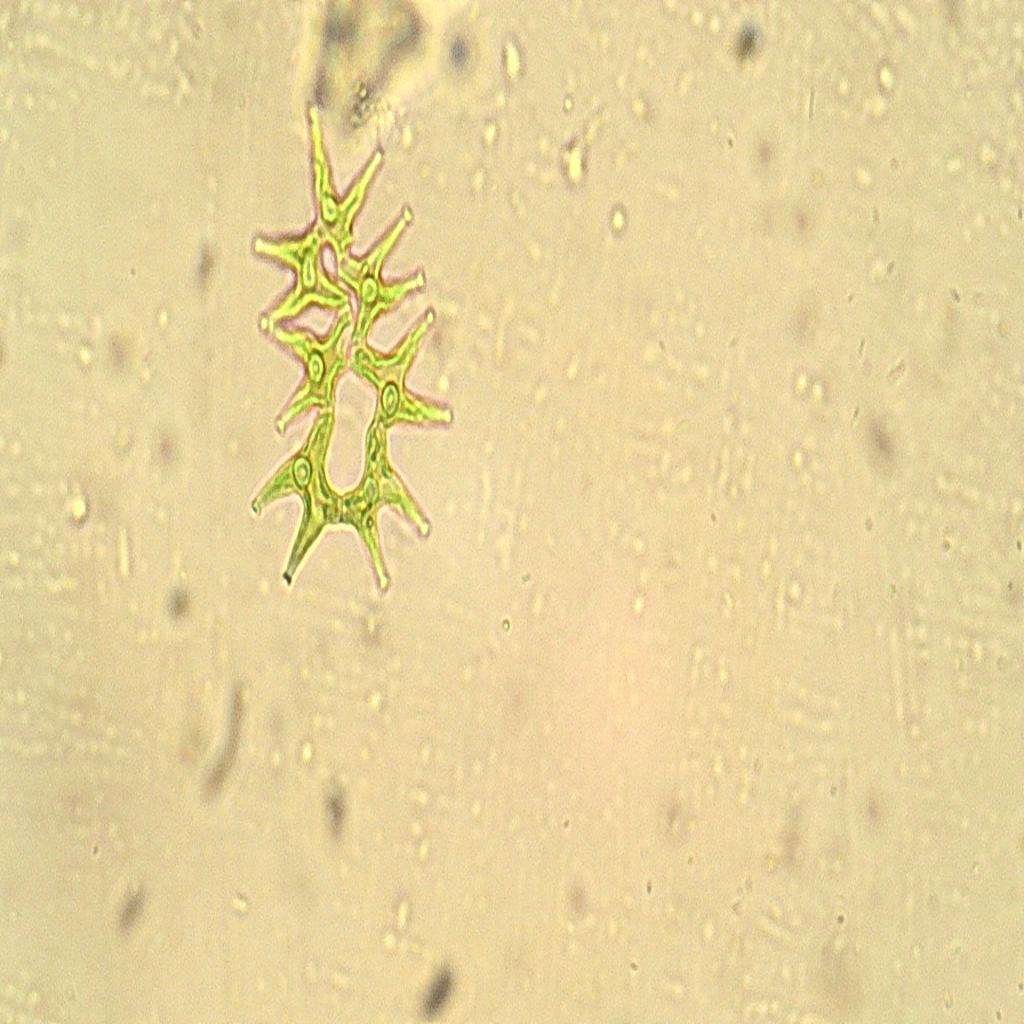Pediastrum_CFI: (245, 90, 460, 634)
